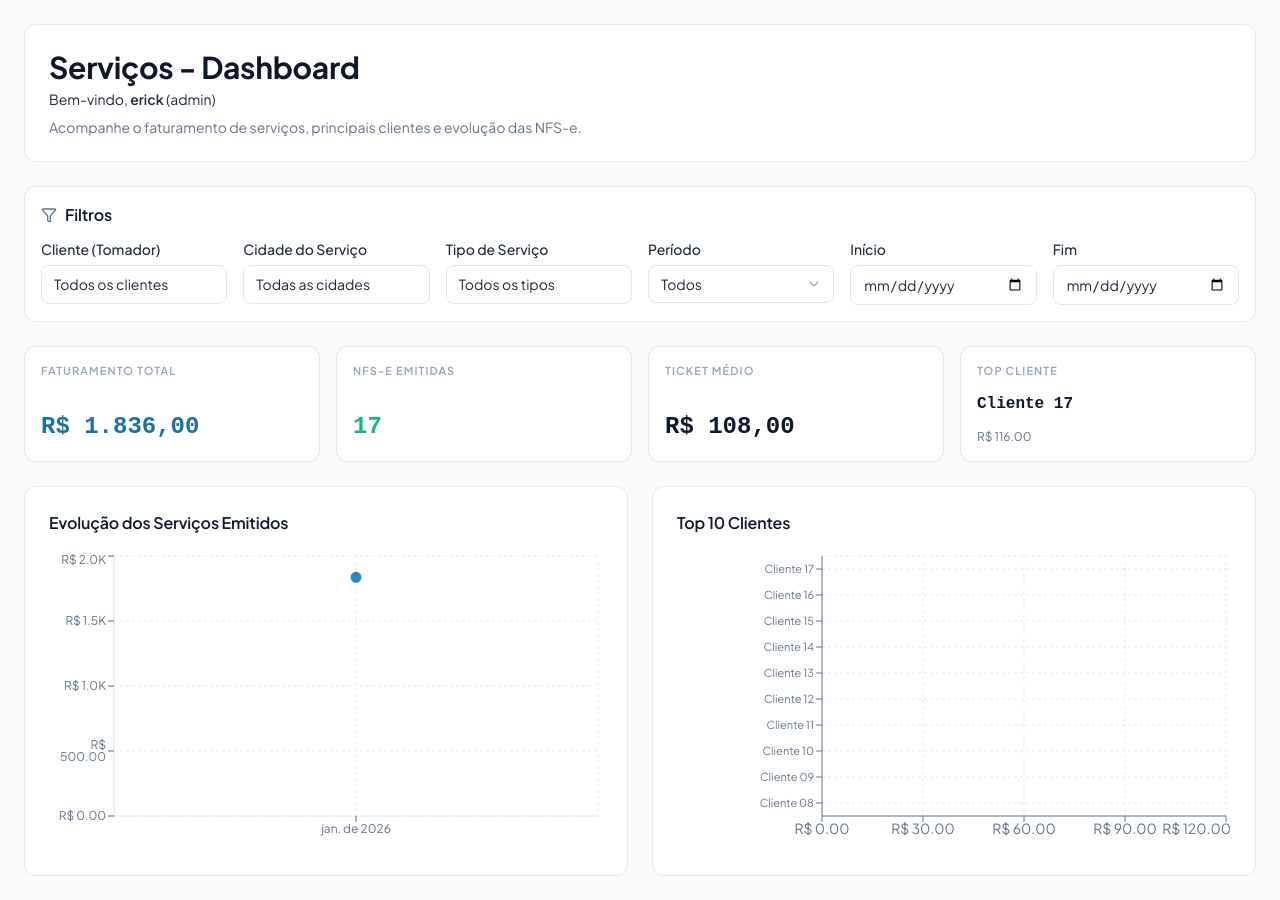
Test: preset de periodo em Servicos › Mes atual vai do dia 1 ao ULTIMO dia do mes, e nao ate hoje
Select "Mês atual" in the dropdown labelled "Período" at (741, 284), box [648,265,834,303]
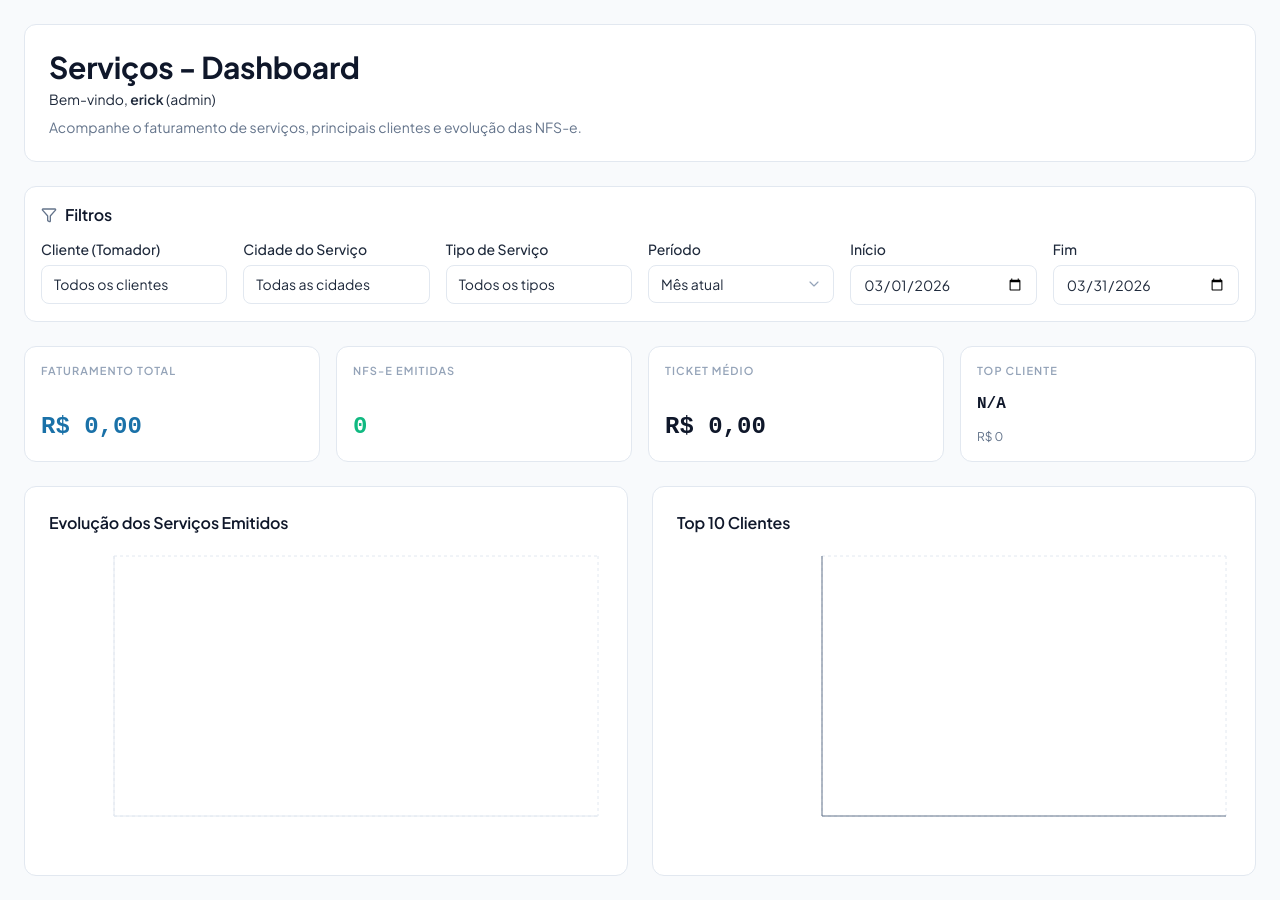
Now the date field labelled "Início" holds "2026-03-01", box [850,265,1037,305]
Now the date field labelled "Fim" holds "2026-03-31", box [1053,265,1239,305]
